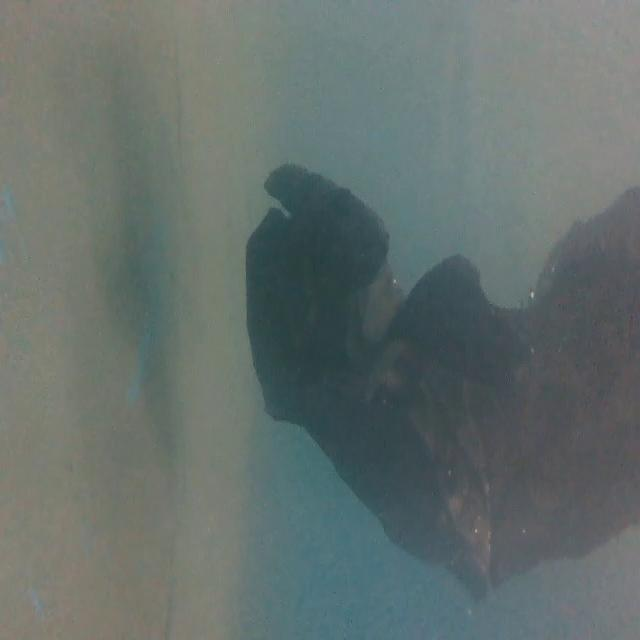plastic bags: (248, 159, 640, 617)
